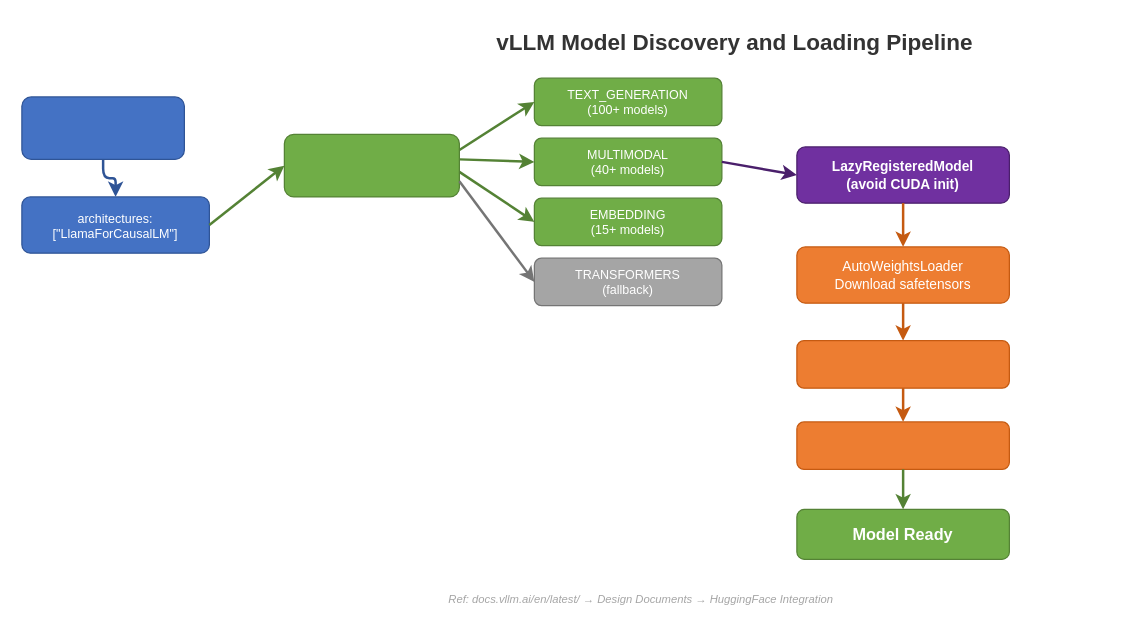
This 1131x628 diagram has some shape labels left out. The centre of each missing label's shape, as x and y in pixels:
Apply Quantization: the point at 902,445
HuggingFace config.json: the point at 102,127
ModelRegistry lookup: the point at 371,165
Shard for TP/PP: the point at 902,363
